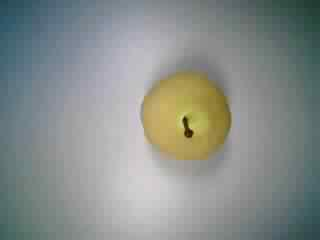pear: (124, 66, 243, 172)
